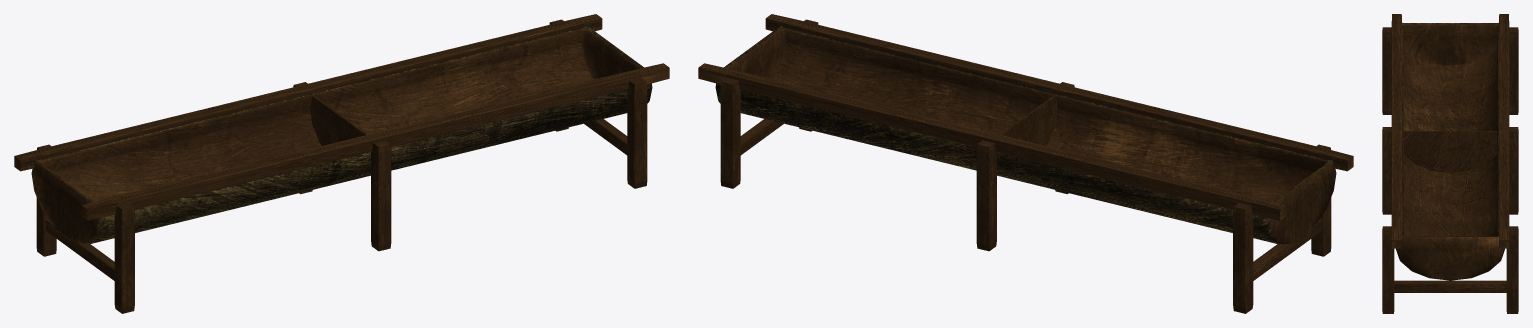
File: woodentrough.fbx
3 views of the same model, side by side, from view 1: azimuth 30°, elevation 25°; view 2: azimuth 150°, elevation 25°; view 3: azimuth 270°, elevation 25° (orthographic). The views are drawn at different scales.
Visible parts, largest first — view 1: woodentrough; view 2: woodentrough; view 3: woodentrough.
Part boxes in pixels (x1=…): woodentrough: x1=14, y1=14, x2=669, y2=313; woodentrough: x1=698, y1=14, x2=1353, y2=313; woodentrough: x1=1382, y1=14, x2=1518, y2=313.
Bounding box in the file's own units: 335 × 59.19 × 85.48.
